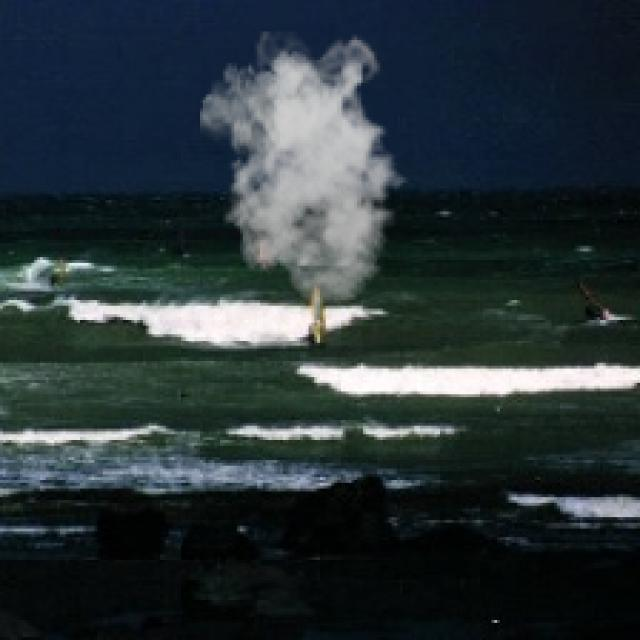Smoke: (200, 31, 417, 306)
